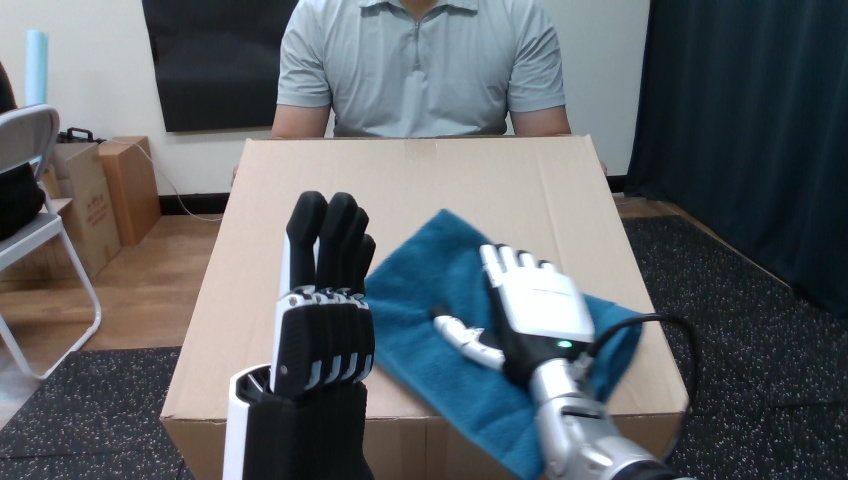left robot hand: (431, 244, 697, 479), (223, 191, 374, 479)
